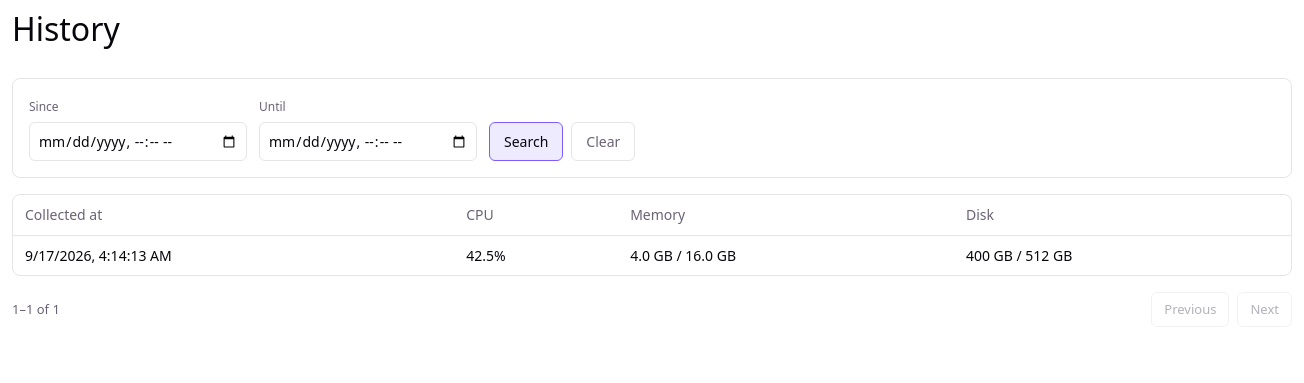
Scenario: HistoryPage › keeps the previous page visible alongside a new filter error, rather than clearing it
Check: the cell "42.5%" is shown, box [454,235,618,275]
Type "2026-08-25T12:00" into the field labelled "Since". click: (138,142)
box: [29,122,247,162]
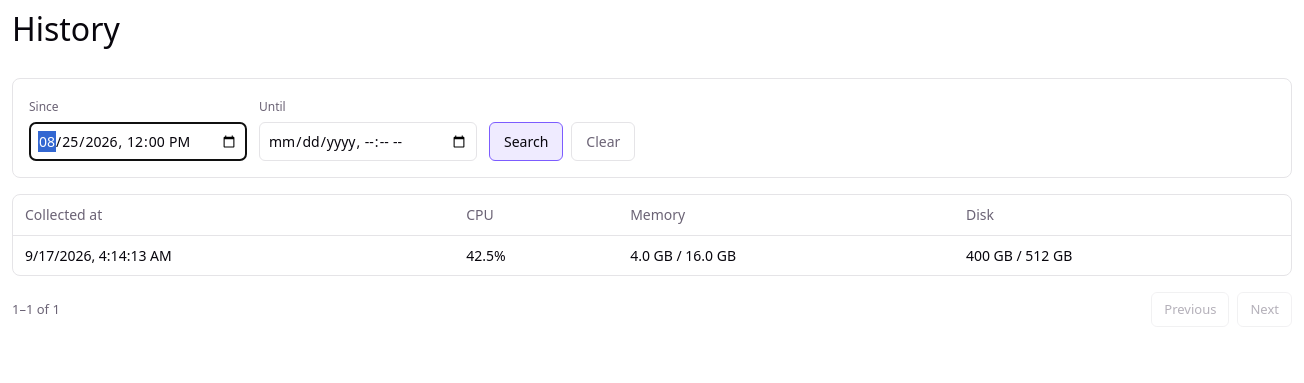
Click the button "Search". click: (526,142)
box: [489,122,563,162]
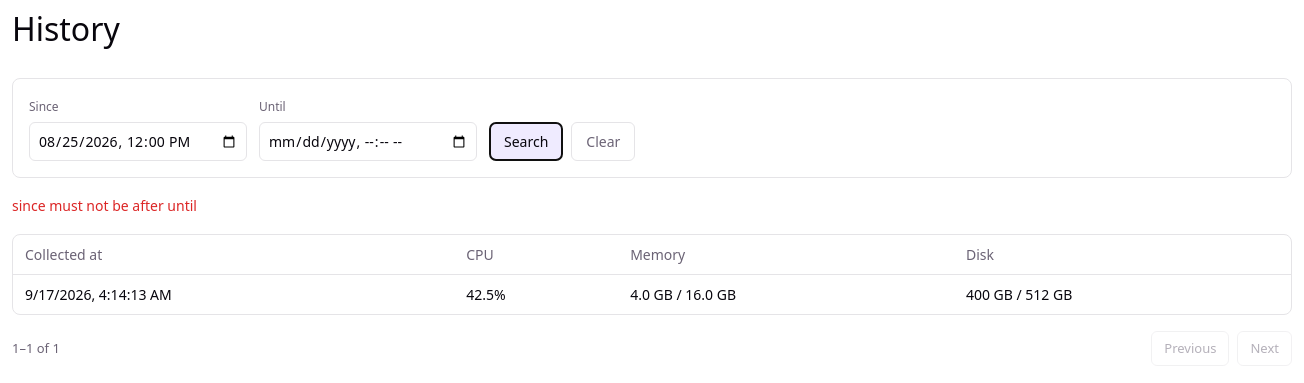
Check: the cell "42.5%" is shown, box [454,274,618,314]
Check: the text "since must not be after until" is shown, box [12,196,197,216]
